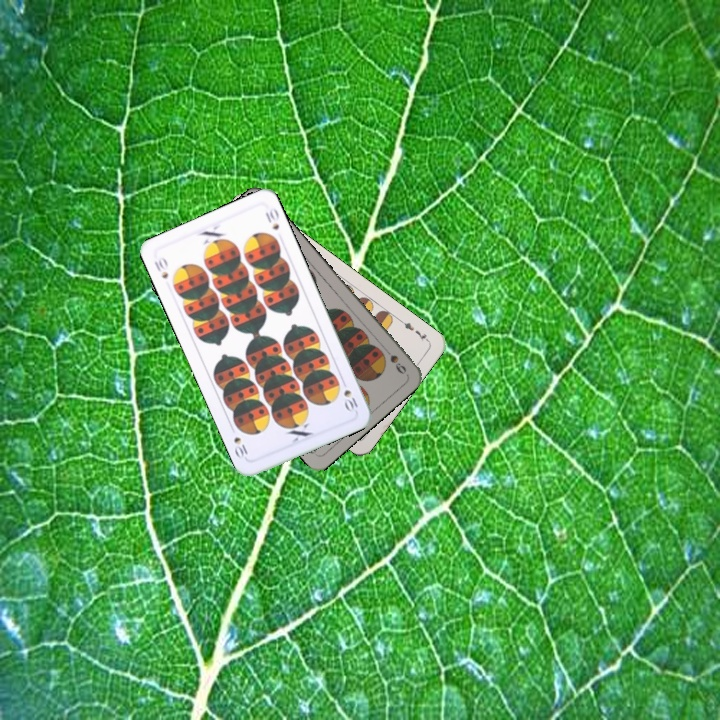E7: (396, 316, 432, 344)
S10: (338, 375, 360, 415), (150, 253, 171, 281)
S9: (379, 342, 409, 377)
